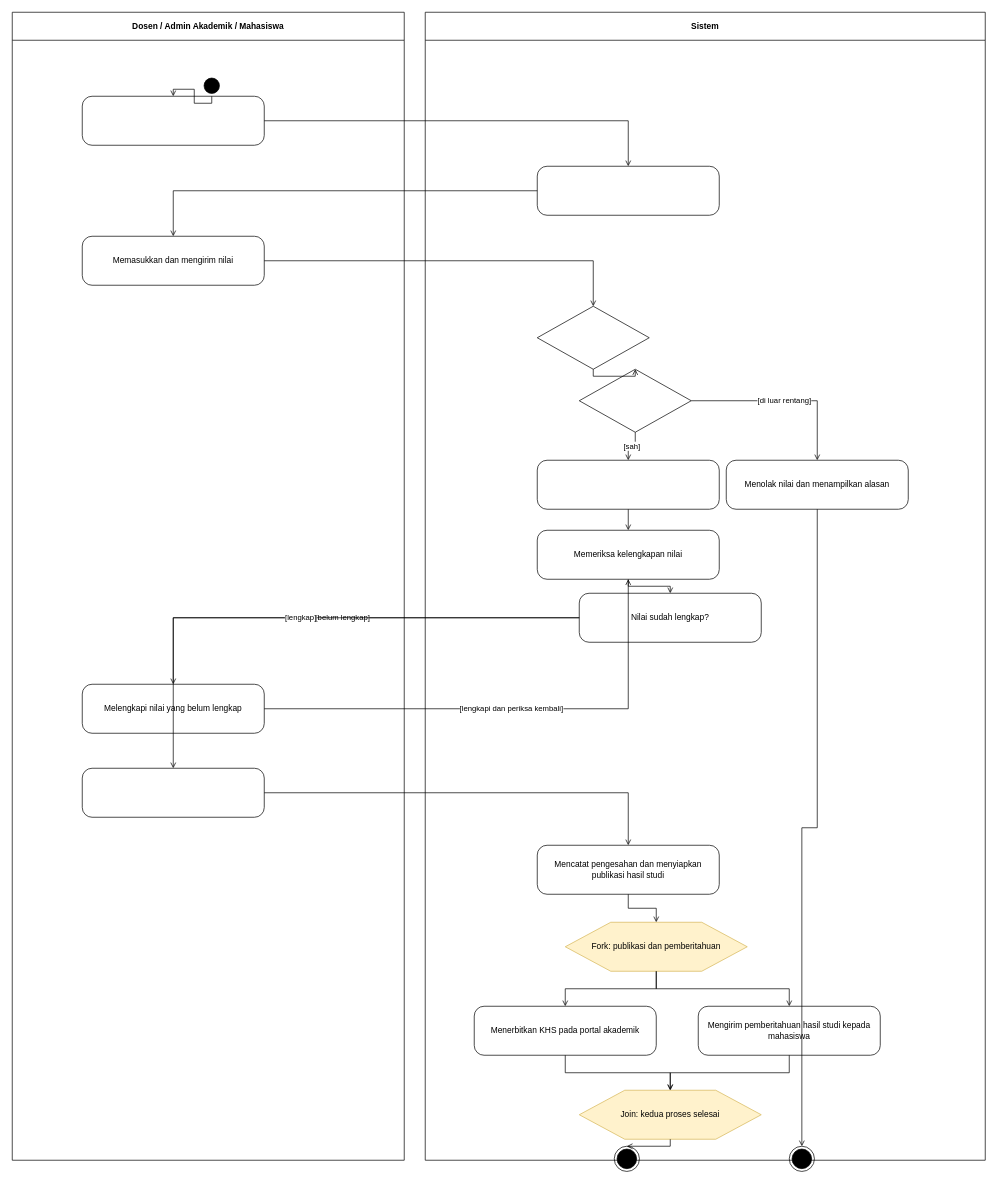
Image size: 998x1184. Some labels were removed from this diagram. Each missing label, with the centre of its shape:
"Admin Akademik memeriksa dan mengesahkan nilai lengkap" goes at point 173,792.
"Memeriksa rentang nilai" goes at point 593,337.
"Memilih mata kuliah dan mahasiswa" goes at point 173,120.
"Menampilkan daftar mahasiswa dan formulir nilai" goes at point 628,190.
"Menyimpan nilai yang sah" goes at point 628,484.
"Nilai dalam rentang sah?" goes at point 635,400.
